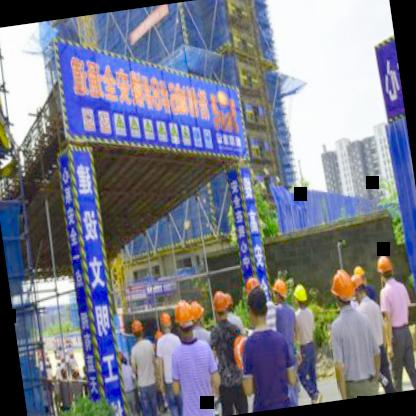head: (238, 286, 270, 330)
helmet: (325, 264, 357, 312), (171, 295, 196, 337), (207, 290, 230, 326), (270, 272, 292, 308), (372, 252, 394, 284), (186, 300, 208, 330), (126, 316, 146, 348), (346, 269, 366, 301), (241, 272, 263, 298), (154, 309, 172, 338), (290, 283, 309, 308)
